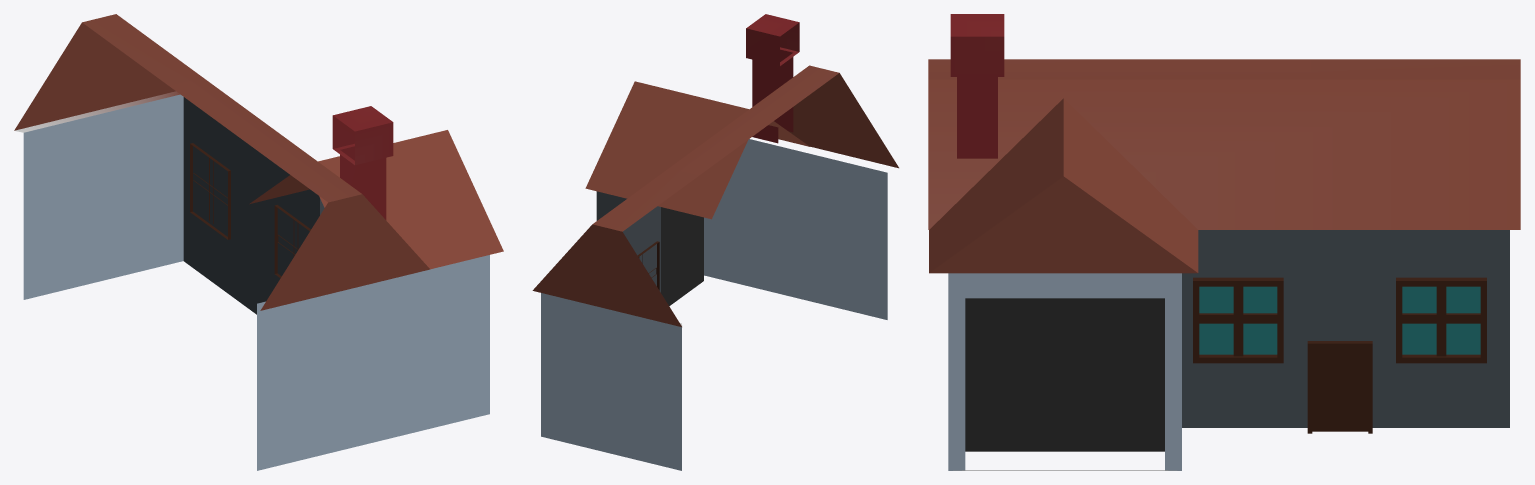
The model's file is Casa2.fbx.
3 renders of one model, left to right at view 1: azimuth 30°, elevation 25°; view 2: azimuth 150°, elevation 25°; view 3: azimuth 270°, elevation 25°, orthographic. The views are drawn at different scales.
Parts seen in each view (by area): view 1: CasaSuburbana2; view 2: CasaSuburbana2; view 3: CasaSuburbana2.
Part boxes in pixels (x1,y1,x2,y2): CasaSuburbana2: (14,14,503,470); CasaSuburbana2: (532,14,898,470); CasaSuburbana2: (928,14,1520,470).
Bounding box in the file's own units: 1660 × 2045 × 2901.
